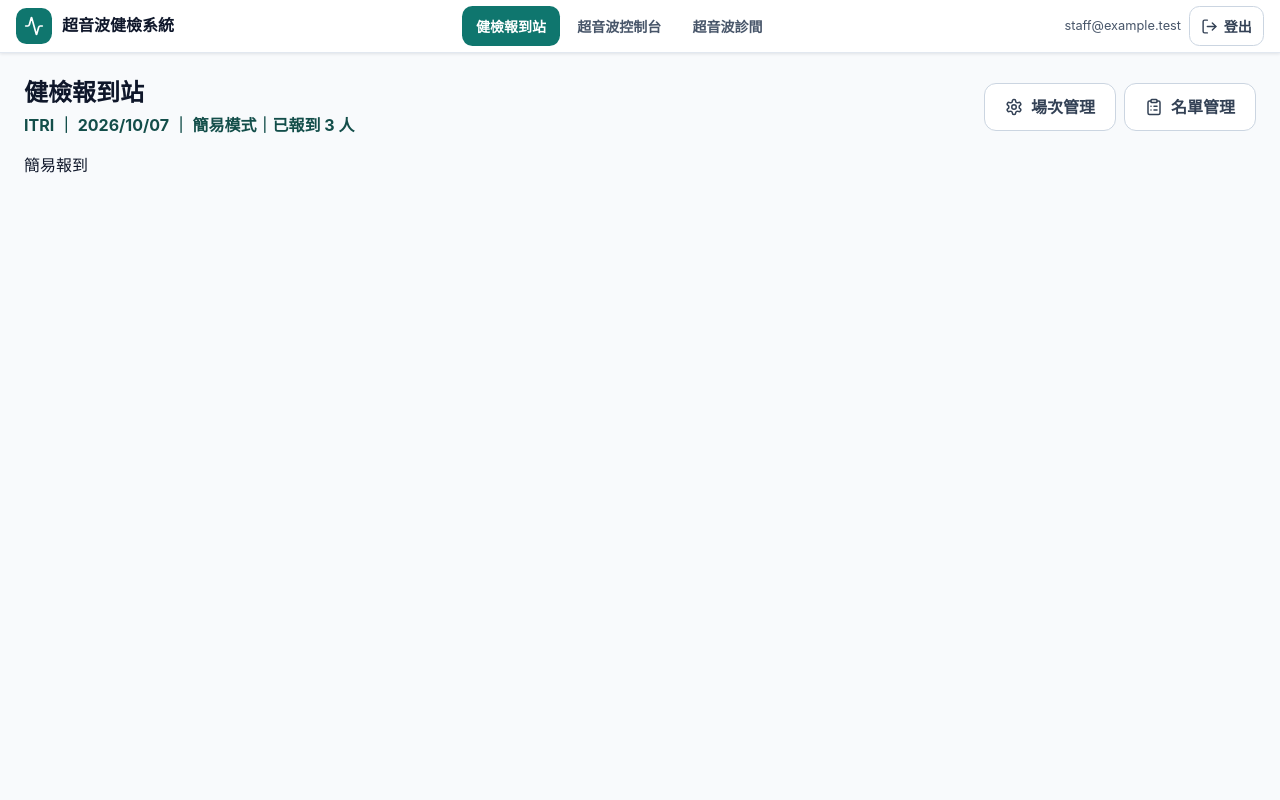
Test: App 標準與簡易場次模式分流 › 既有簡易場次直接 render SimpleCheckin，摘要及管理視窗只顯示實際已報到／已完成
Step 1. Click the button "場次管理" → (1050,107), box [984,83,1116,131]
(page scrolled)
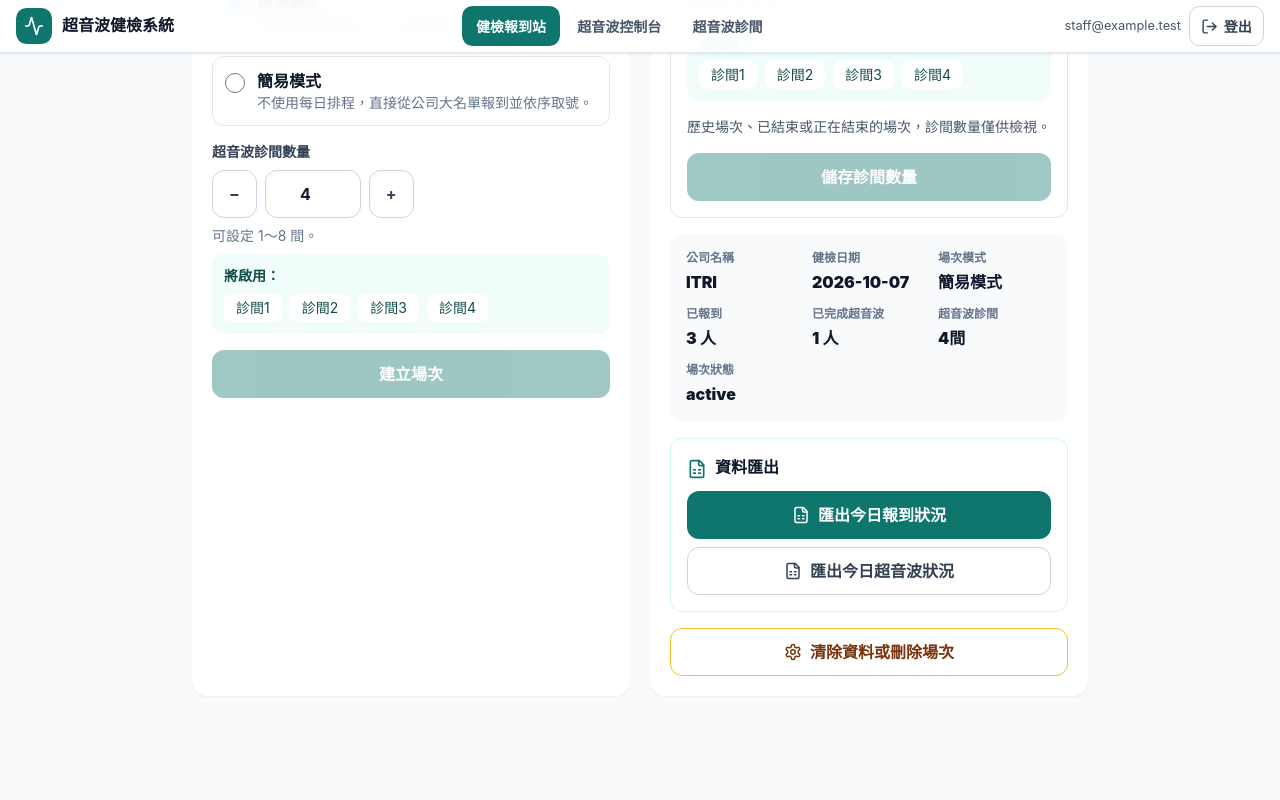
Step 2. Click the button "清除資料或刪除場次" → (869,652), box [670,628,1068,676]
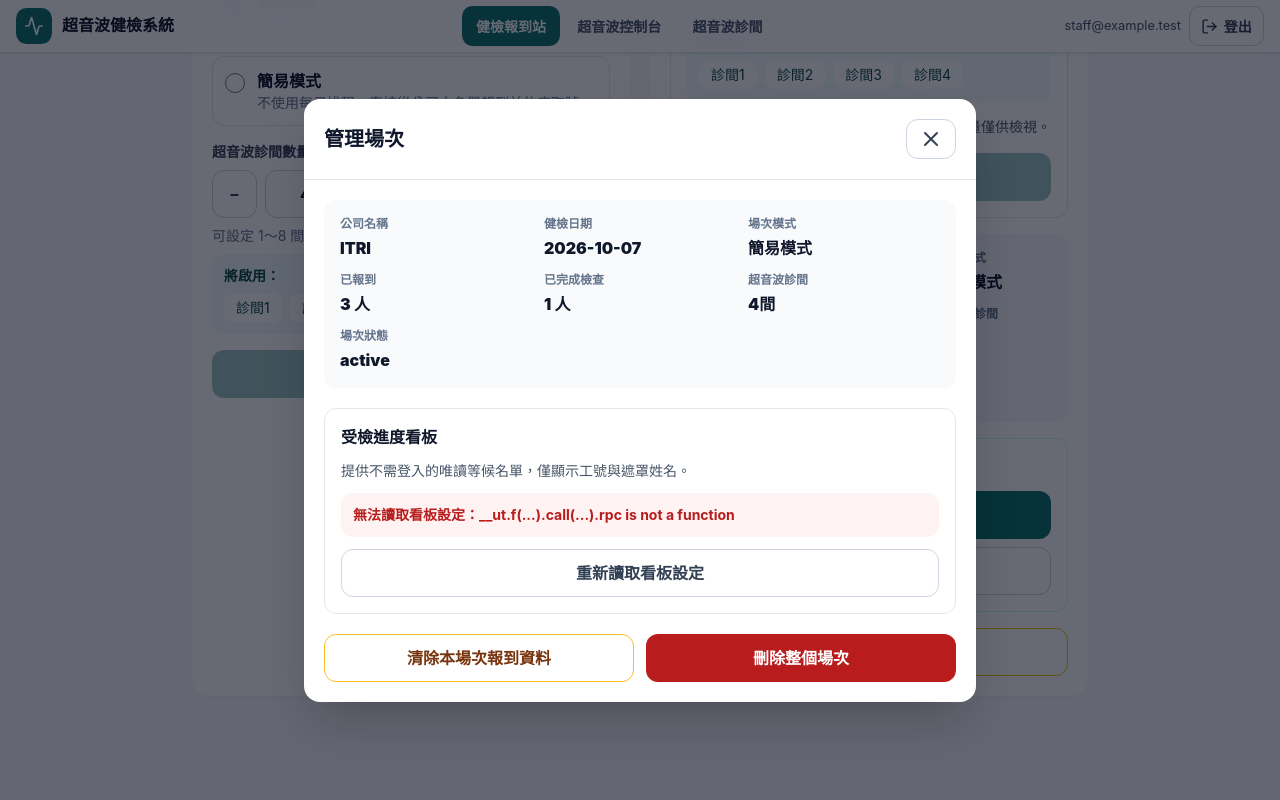
Step 3. Click the button "清除本場次報到資料" → (479,658), box [324,634,634,682]
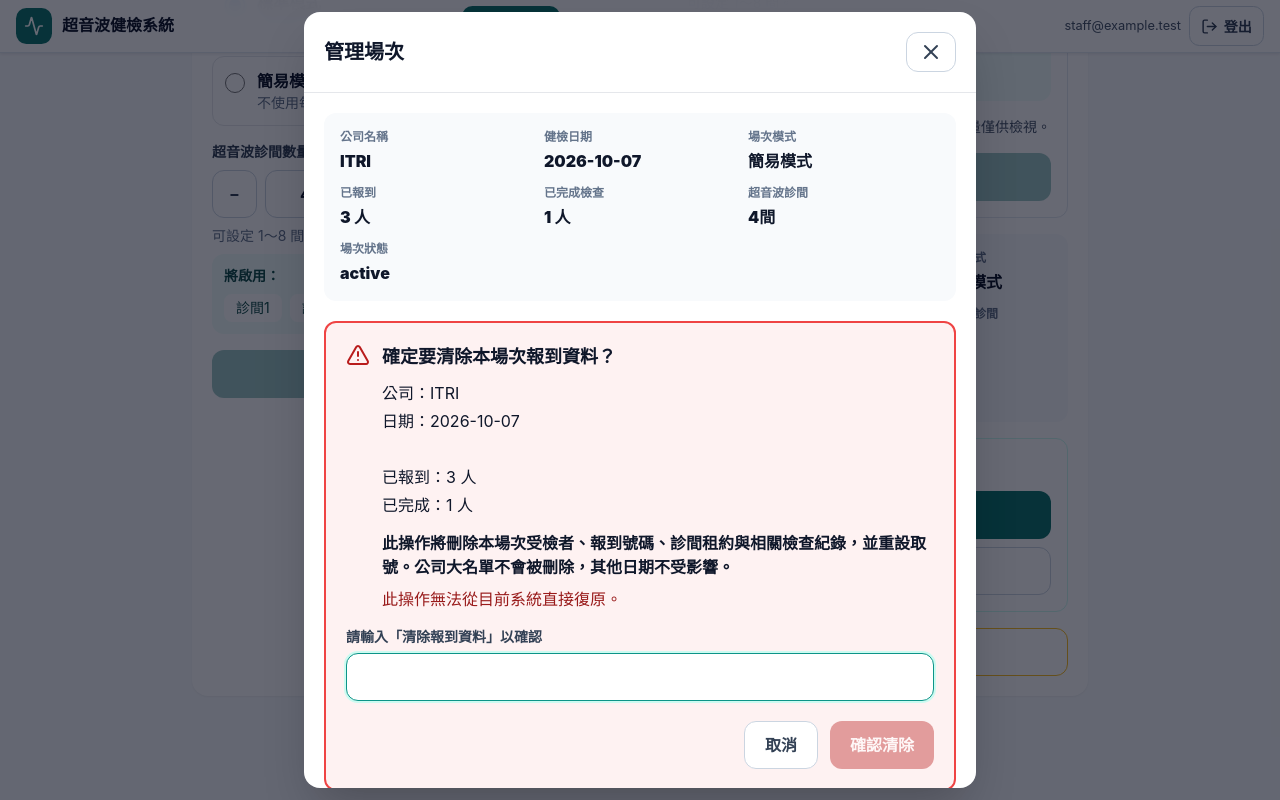
Check: the dialog shows "請輸入「清除報到資料」以確認"
Check: the button "確認清除" is disabled, box [830,721,934,769]
